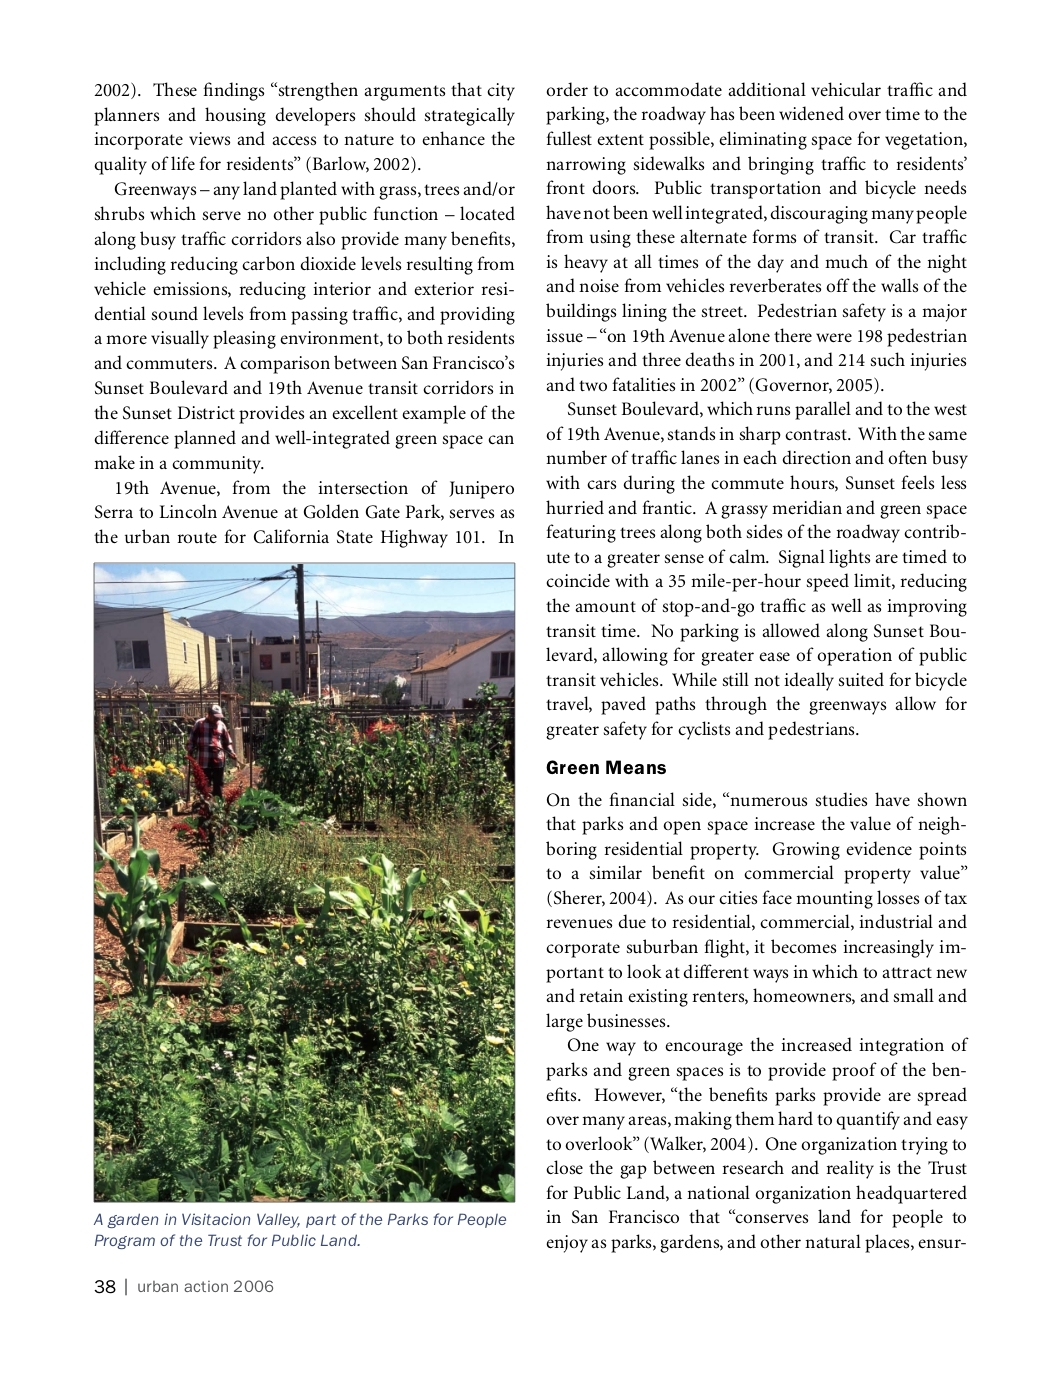figure: (93, 561, 515, 1202)
